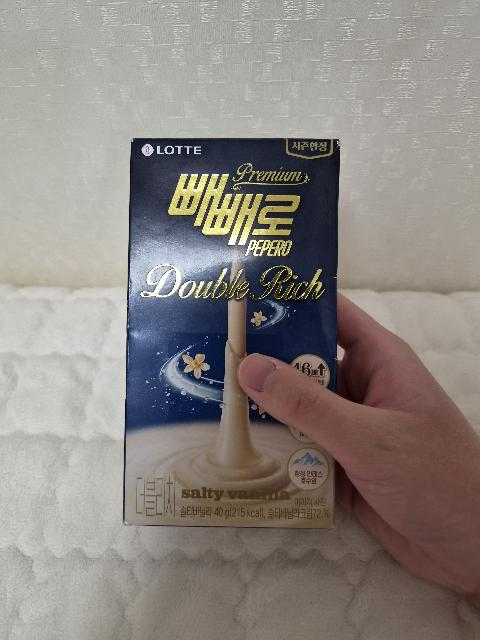pepero: (122, 138, 340, 530)
